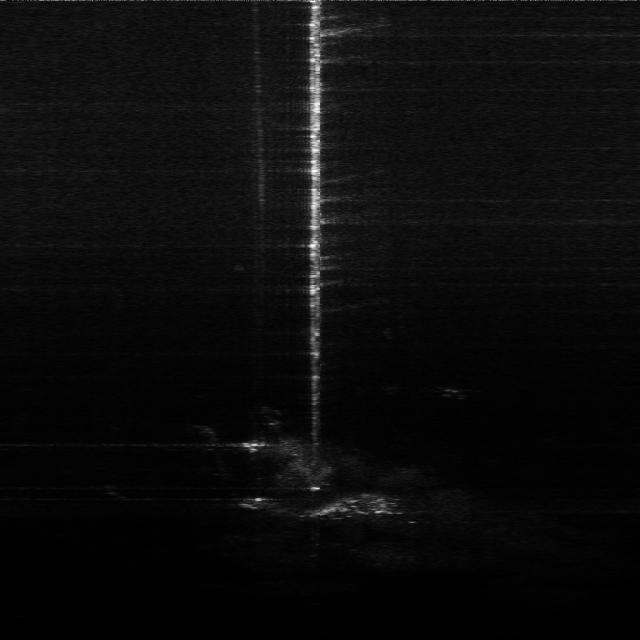rov: (238, 438, 273, 454)
